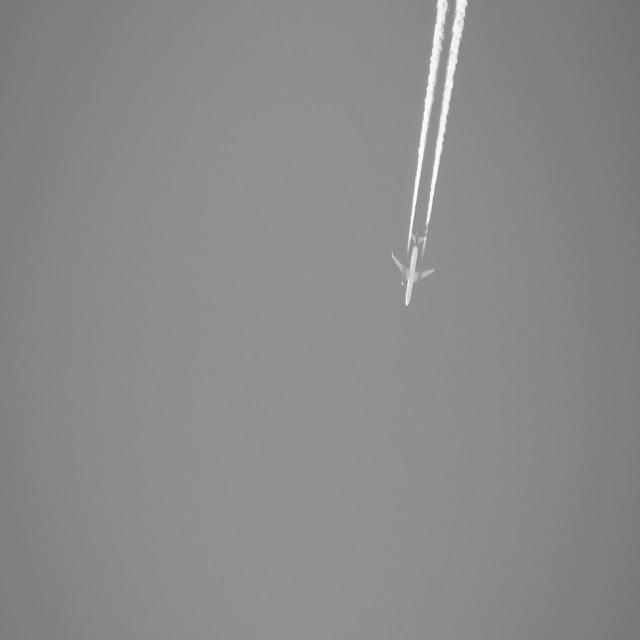aeroplane: (391, 224, 438, 317)
